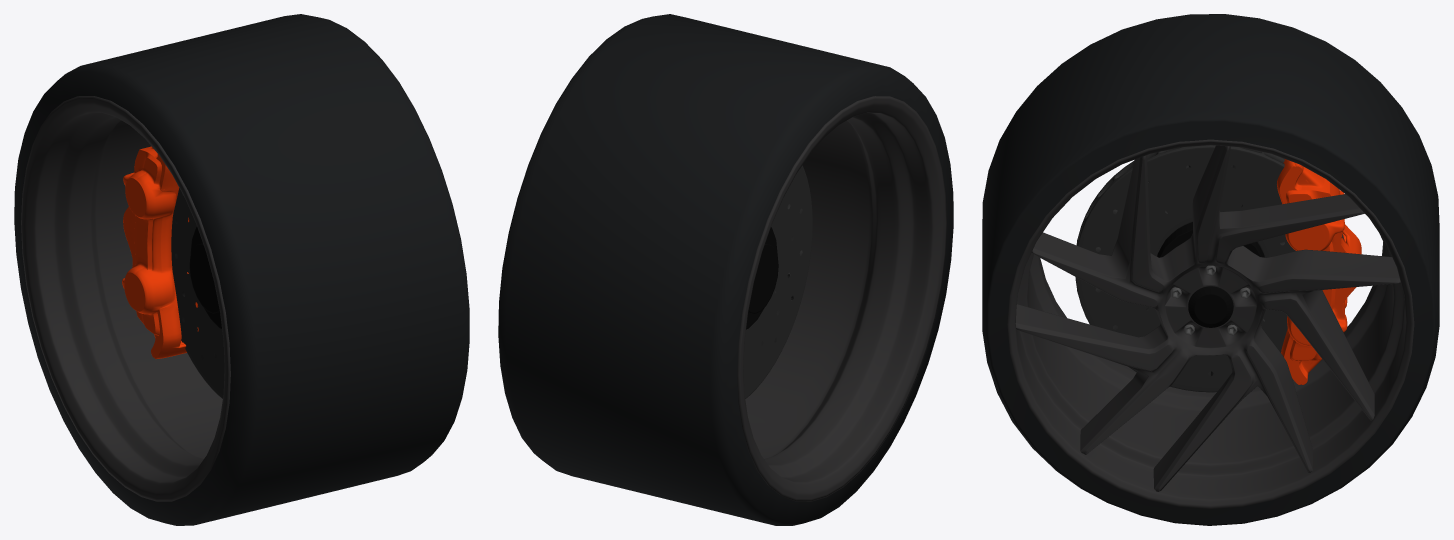
Rendered from wheels.glb.
3 views of the same model, side by side, from view 1: azimuth 30°, elevation 25°; view 2: azimuth 150°, elevation 25°; view 3: azimuth 270°, elevation 25° (orthographic). The views are drawn at different scales.
Visible parts, largest first — view 1: wheel_rear_turning, wheel_front_turning, static_front, static_rear; view 2: wheel_front_turning, wheel_rear_turning; view 3: wheel_rear_turning, wheel_front_turning, static_rear, static_front.
Part boxes in pixels (bbox=[...]): wheel_rear_turning: bbox=[25, 17, 469, 525]; wheel_front_turning: bbox=[14, 14, 412, 523]; static_front: bbox=[134, 152, 197, 358]; static_rear: bbox=[122, 146, 198, 357]; wheel_front_turning: bbox=[498, 24, 952, 525]; wheel_rear_turning: bbox=[575, 14, 953, 523]; wheel_rear_turning: bbox=[982, 14, 1434, 525]; wheel_front_turning: bbox=[1007, 14, 1439, 500]; static_rear: bbox=[1290, 163, 1361, 384]; static_front: bbox=[1277, 159, 1348, 384].
Bounding box in the file's own units: 0.383 × 0.6702 × 0.6696.
